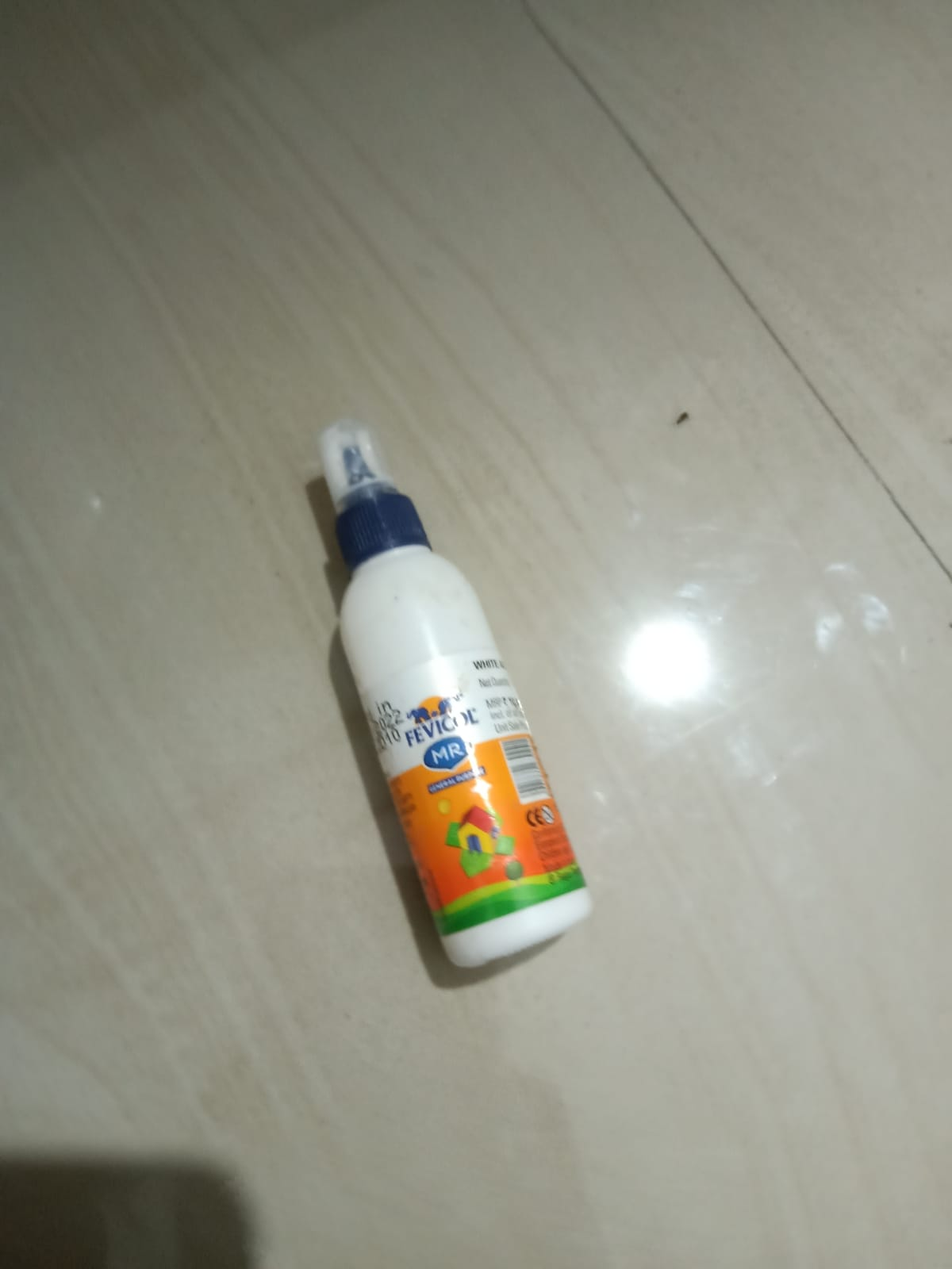plastic: (186, 437, 651, 1007)
